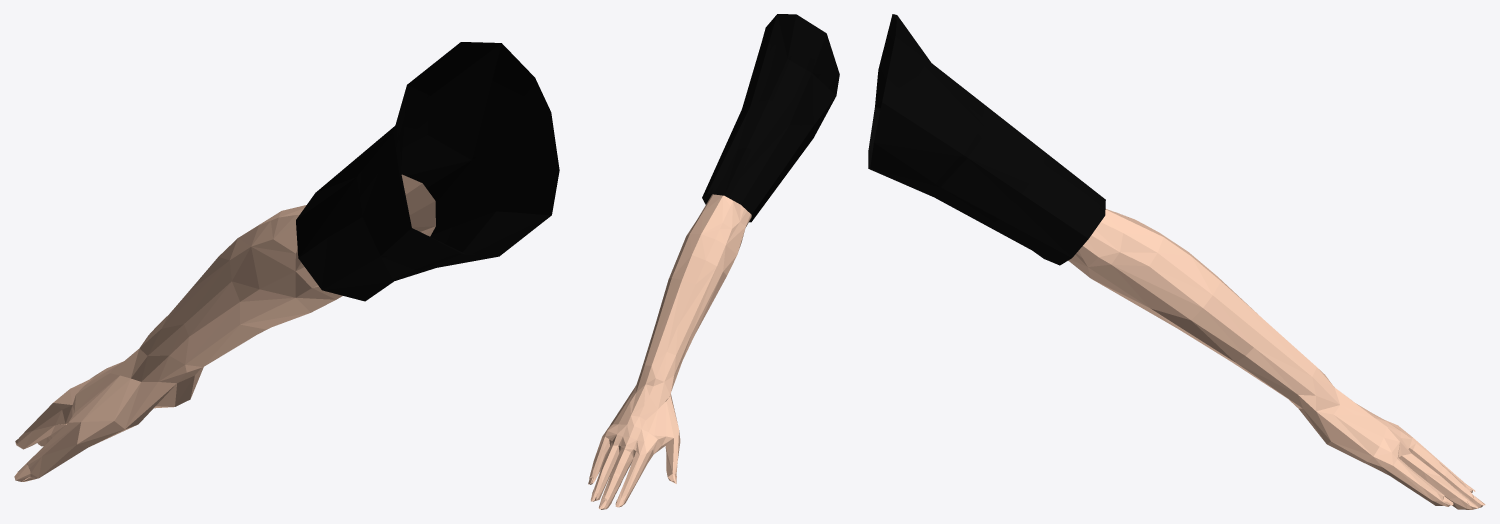
The model's file is brazo_derecho.obj.
3 renders of one model, left to right at view 1: azimuth 30°, elevation 25°; view 2: azimuth 150°, elevation 25°; view 3: azimuth 270°, elevation 25°, orthographic. The views are drawn at different scales.
Bounding box in the file's own units: 0.6658 × 2.38 × 2.66.
Materials: 2 (2 with a texture image).
